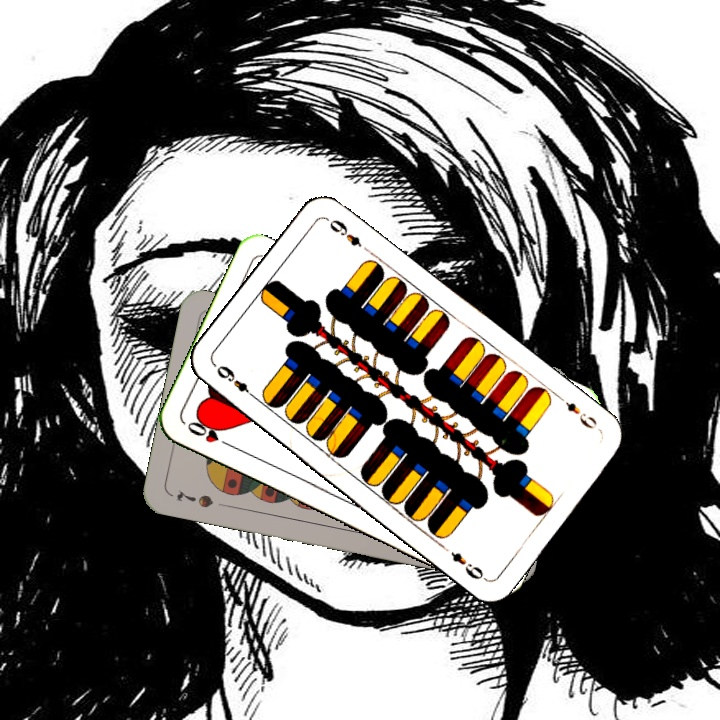E9: (554, 392, 604, 434), (212, 361, 260, 403)
HO: (182, 417, 237, 451)
S7: (172, 485, 216, 511)
